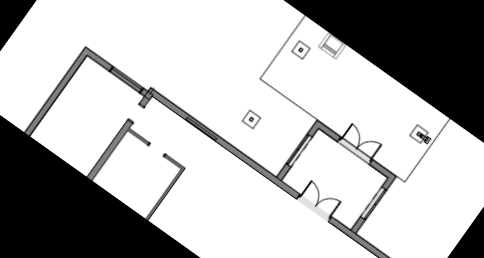double door: (298, 176, 346, 219), (338, 119, 386, 162)
wall: (21, 42, 96, 139), (212, 133, 304, 204), (324, 213, 429, 258), (85, 115, 138, 182), (144, 166, 187, 222), (141, 83, 191, 123), (75, 41, 116, 77), (364, 155, 400, 186), (310, 116, 343, 144), (271, 159, 295, 185), (124, 126, 151, 148), (162, 151, 187, 172), (348, 214, 370, 235)
window: (180, 110, 224, 147), (105, 63, 147, 99), (283, 130, 319, 171), (358, 183, 392, 224)
